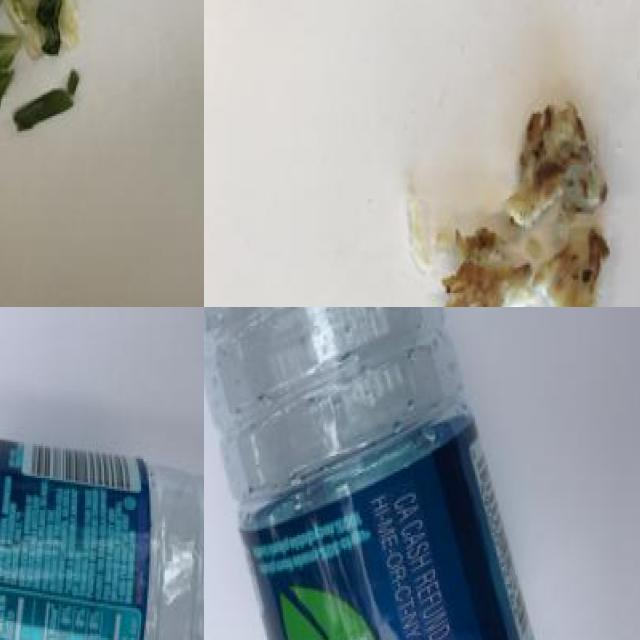compost: (361, 82, 634, 307), (0, 0, 128, 167)
plastic: (204, 307, 564, 640), (0, 398, 204, 640)
